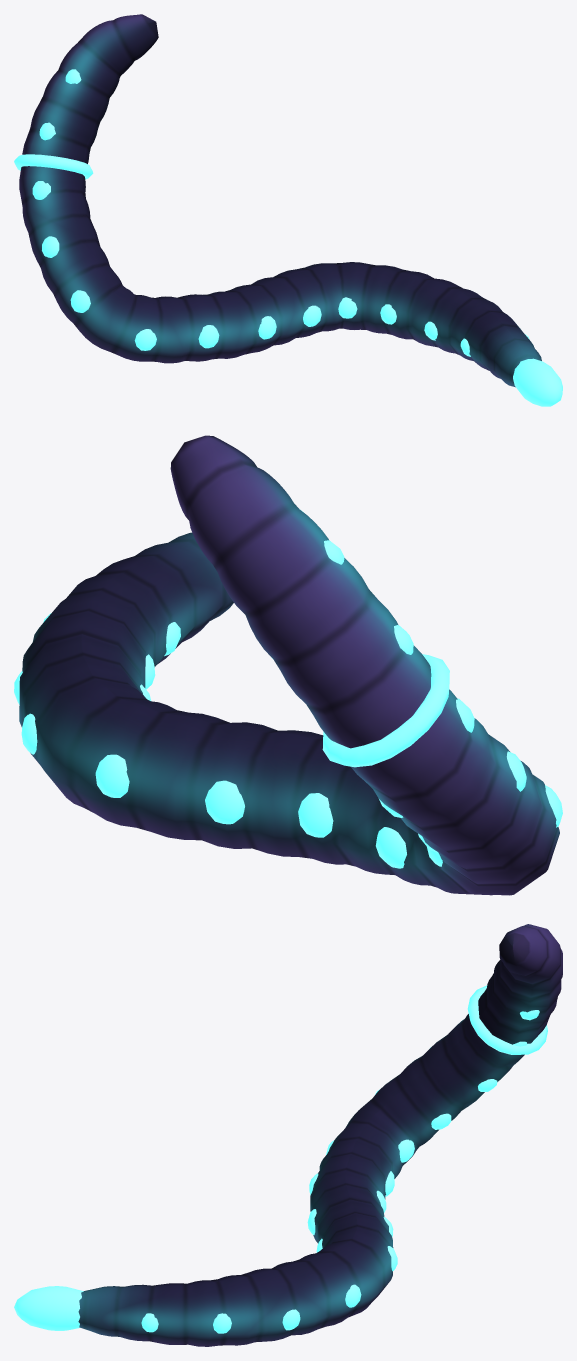
Rendered from GlowWorm.glb.
3 renders of one model, top to bottom at view 1: azimuth 30°, elevation 25°; view 2: azimuth 150°, elevation 25°; view 3: azimuth 270°, elevation 25°, orthographic. The views are drawn at different scales.
Visible parts, largest first — view 1: GlowWorm, GlowWorm_Glow; view 2: GlowWorm, GlowWorm_Glow; view 3: GlowWorm, GlowWorm_Glow.
Part boxes in pixels (x1,y1,x2,y2): GlowWorm: (19,14,541,387); GlowWorm_Glow: (14,69,562,406); GlowWorm: (19,435,559,895); GlowWorm_Glow: (14,509,562,868); GlowWorm: (78,924,562,1346); GlowWorm_Glow: (14,985,547,1333).
Bounding box in the file's own units: 0.7834 × 0.6035 × 0.9651.
Materials: 2 (1 with a texture image).
